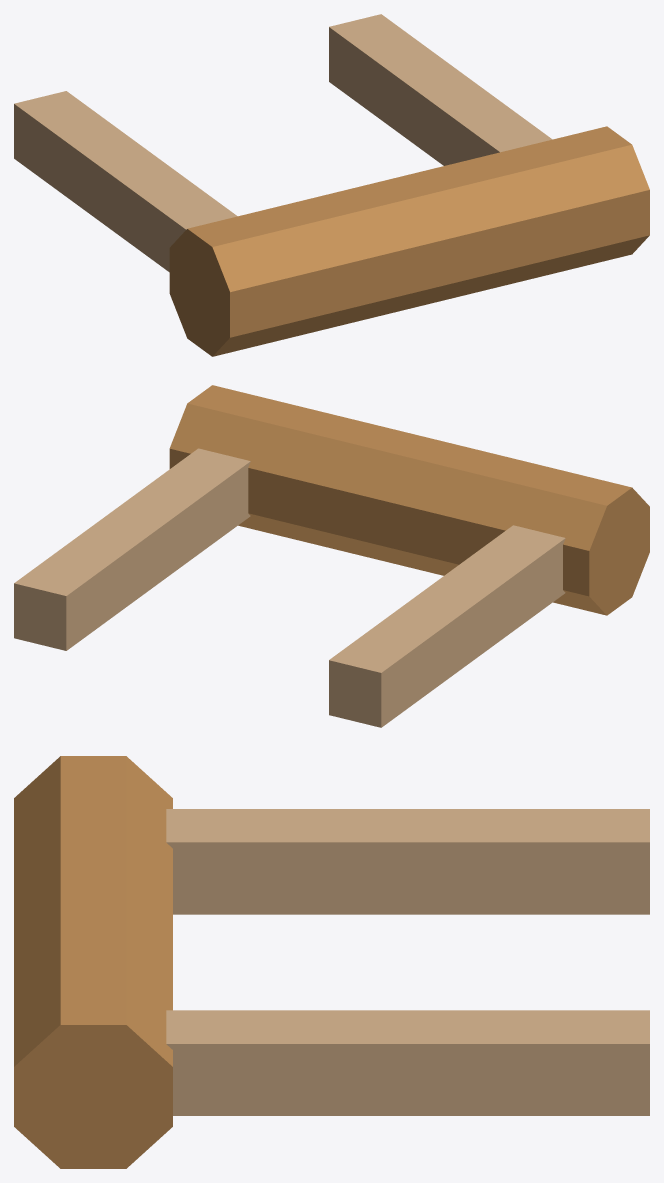
The model's file is Batterry_switch.glb.
The picture shows the model from 3 angles, top to bottom: view 1: azimuth 30°, elevation 25°; view 2: azimuth 150°, elevation 25°; view 3: azimuth 270°, elevation 25°; orthographic projection. The views are drawn at different scales.
Parts seen in each view (by area): view 1: mergedBlocks(Clone); view 2: mergedBlocks(Clone); view 3: mergedBlocks(Clone).
Boxes of the visible parts, x1=… form: mergedBlocks(Clone): x1=14, y1=14, x2=649, y2=356; mergedBlocks(Clone): x1=14, y1=385, x2=649, y2=727; mergedBlocks(Clone): x1=14, y1=756, x2=649, y2=1168.
Bounding box in the file's own units: 0.6 × 0.15 × 0.6.
